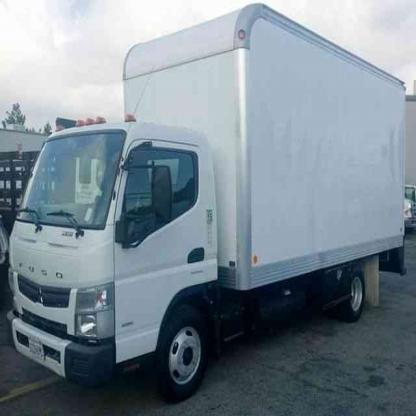truck: (9, 2, 404, 400)
